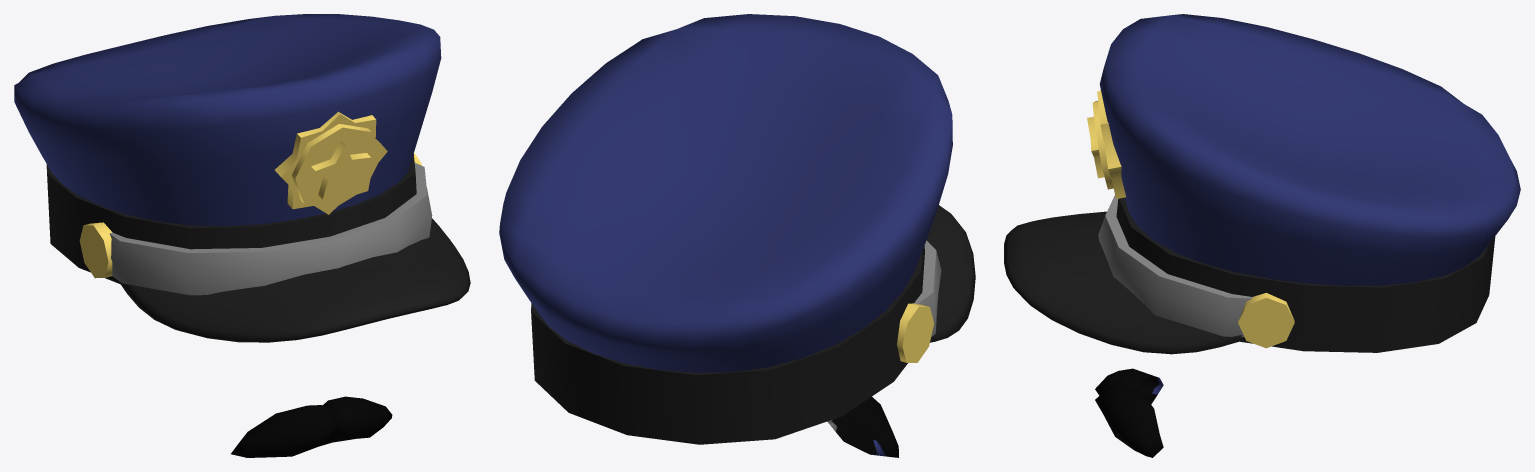
The picture shows the model from 3 angles, left to right: view 1: azimuth 30°, elevation 25°; view 2: azimuth 150°, elevation 25°; view 3: azimuth 270°, elevation 25°; orthographic projection. The views are drawn at different scales.
Parts seen in each view (by area): view 1: 5警帽; view 2: 5警帽; view 3: 5警帽.
Boxes of the visible parts, x1=… form: 5警帽: x1=14, y1=14, x2=470, y2=457; 5警帽: x1=499, y1=14, x2=975, y2=457; 5警帽: x1=1004, y1=14, x2=1520, y2=457.
Bounding box in the file's own units: 0.4589 × 0.4628 × 0.5998.
